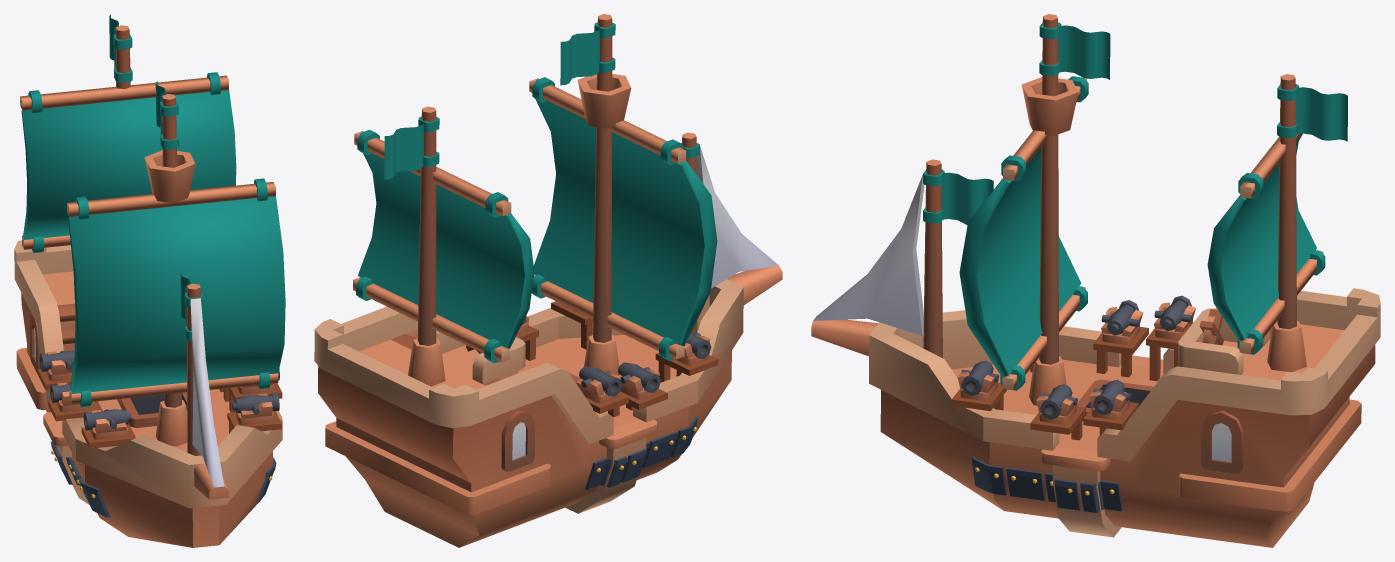
The model's file is ship-warship.glb.
3 views of the same model, side by side, from view 1: azimuth 30°, elevation 25°; view 2: azimuth 150°, elevation 25°; view 3: azimuth 270°, elevation 25° (orthographic). The views are drawn at different scales.
Parts seen in each view (by area): view 1: sail-a.011, Hull + rigging.005, sail-b.005, Fitted cannon.020, Fitted cannon.023, flag-b.008, flag-c.008, Fitted cannon.022, Gun platform • timber saddle.020, Fitted cannon.021, Fitted armor • -1 0.002, flag-a.008 (+2 smaller); view 2: Hull + rigging.005, sail-a.011, sail-b.005, flag-b.008, flag-c.008, Fitted cannon.022, Fitted cannon.021, Fitted armor • -1 3.002, Fitted armor • -1 1.002, Gun platform • timber saddle.020, Fitted cannon.020; view 3: Hull + rigging.005, sail-a.011, sail-b.005, flag-b.008, flag-c.008, flag-a.008, Fitted cannon.021, Fitted armor • 1 3.002, Fitted cannon.022, Fitted armor • 1 1.002, Fitted cannon.023, Fitted cannon.024 (+5 smaller).
Part boxes in pixels (x1=…): sail-a.011: x1=67, y1=178, x2=285, y2=407; Hull + rigging.005: x1=14, y1=25, x2=282, y2=547; sail-b.005: x1=20, y1=72, x2=236, y2=252; Fitted cannon.020: x1=83, y1=409, x2=131, y2=439; Fitted cannon.023: x1=232, y1=393, x2=279, y2=425; flag-b.008: x1=155, y1=81, x2=179, y2=149; flag-c.008: x1=109, y1=14, x2=132, y2=82; Fitted cannon.022: x1=39, y1=350, x2=74, y2=381; Gun platform • timber saddle.020: x1=81, y1=423, x2=135, y2=448; Fitted cannon.021: x1=50, y1=383, x2=94, y2=412; Fitted armor • -1 0.002: x1=78, y1=477, x2=110, y2=517; flag-a.008: x1=180, y1=272, x2=203, y2=340; Hull + rigging.005: x1=314, y1=14, x2=782, y2=547; sail-a.011: x1=529, y1=77, x2=717, y2=360; sail-b.005: x1=353, y1=129, x2=534, y2=363; flag-b.008: x1=560, y1=22, x2=615, y2=85; flag-c.008: x1=384, y1=116, x2=439, y2=179; Fitted cannon.022: x1=579, y1=366, x2=621, y2=403; Fitted cannon.021: x1=618, y1=362, x2=660, y2=399; Fitted armor • -1 3.002: x1=585, y1=456, x2=627, y2=489; Fitted armor • -1 1.002: x1=642, y1=431, x2=677, y2=468; Gun platform • timber saddle.020: x1=655, y1=352, x2=718, y2=375; Fitted cannon.020: x1=676, y1=333, x2=711, y2=365; Hull + rigging.005: x1=811, y1=14, x2=1380, y2=547; sail-a.011: x1=959, y1=76, x2=1088, y2=390; sail-b.005: x1=1207, y1=133, x2=1325, y2=354; flag-b.008: x1=1039, y1=22, x2=1110, y2=79; flag-c.008: x1=1277, y1=84, x2=1347, y2=141; flag-a.008: x1=923, y1=169, x2=993, y2=225; Fitted cannon.021: x1=1101, y1=300, x2=1139, y2=344; Fitted armor • 1 3.002: x1=1080, y1=480, x2=1122, y2=512; Fitted cannon.022: x1=1154, y1=295, x2=1192, y2=340; Fitted armor • 1 1.002: x1=1006, y1=467, x2=1045, y2=500; Fitted cannon.023: x1=960, y1=360, x2=998, y2=400; Fitted cannon.024: x1=1039, y1=384, x2=1077, y2=424.
Bounding box in the file's own units: 6.23 × 9.98 × 10.68.
6 materials, 2 textured.
